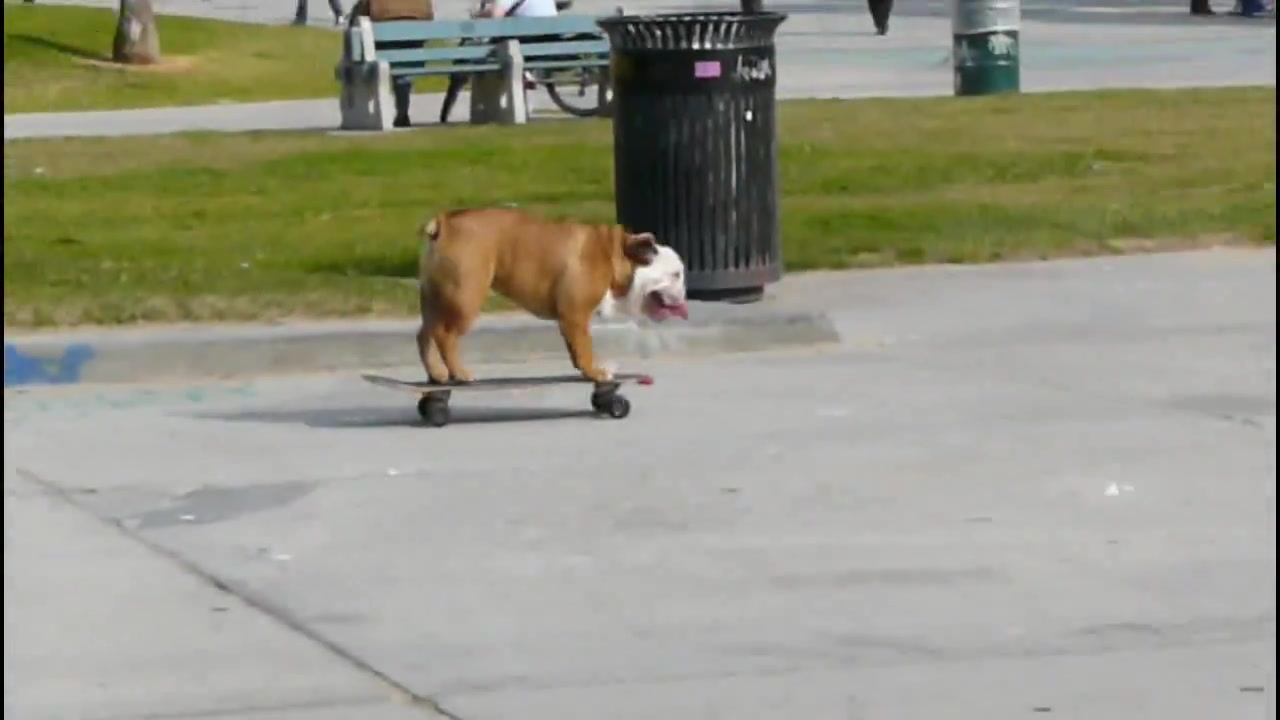dog: (414, 207, 695, 381)
